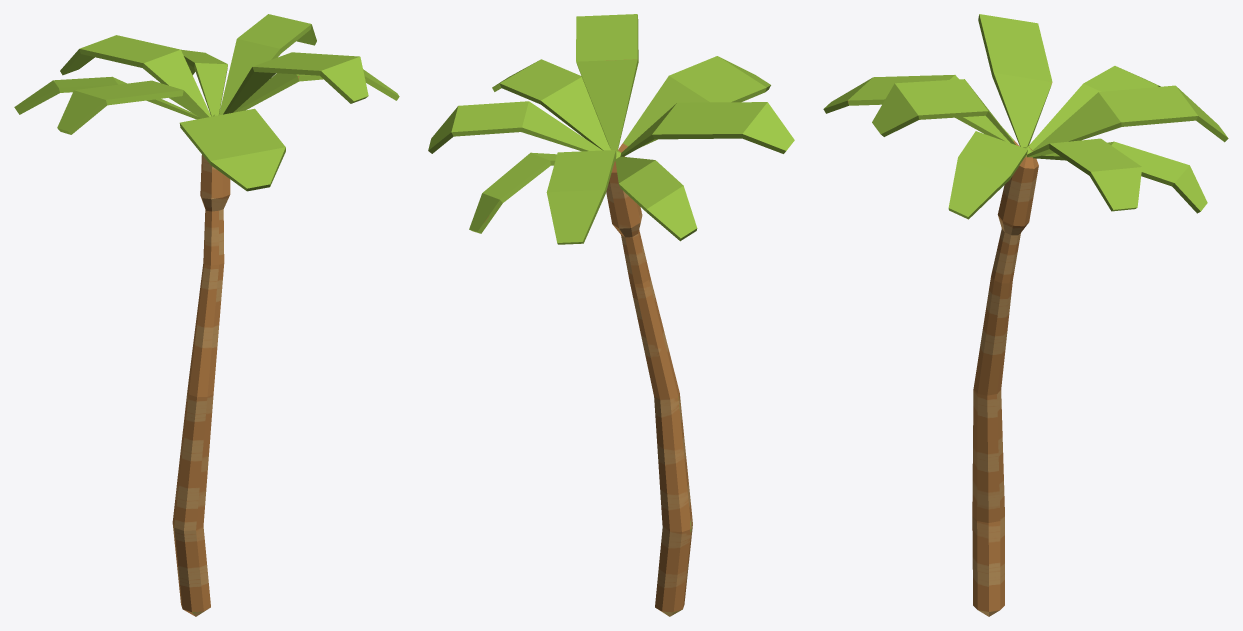
Rendered from palmTree.glb.
3 views of the same model, side by side, from view 1: azimuth 30°, elevation 25°; view 2: azimuth 150°, elevation 25°; view 3: azimuth 270°, elevation 25° (orthographic). The views are drawn at different scales.
Visible parts, largest first — view 1: Circle; view 2: Circle; view 3: Circle.
Part boxes in pixels (<box>): Circle: <box>14,14,399,616</box>; Circle: <box>428,14,794,616</box>; Circle: <box>823,14,1228,616</box>.
Size of the model in its own units: 15.86 by 26.55 by 17.02.
1 material, 1 textured.
